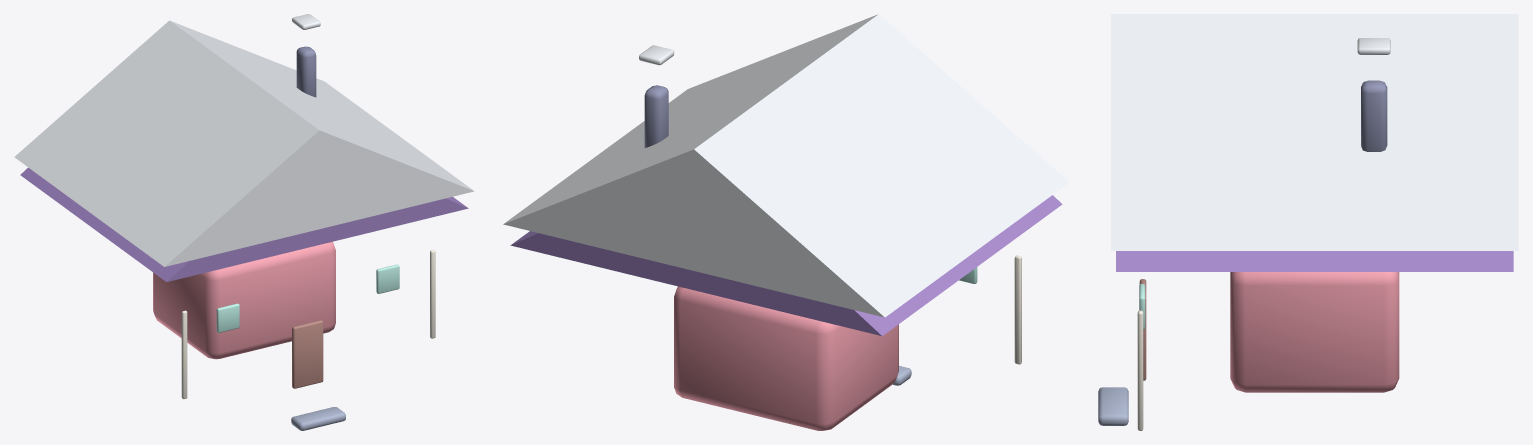
Rendered from northern_house_0.glb.
3 renders of one model, left to right at view 1: azimuth 30°, elevation 25°; view 2: azimuth 150°, elevation 25°; view 3: azimuth 270°, elevation 25°, orthographic. The views are drawn at different scales.
Parts seen in each view (by area): view 1: SnowCap, HouseBody, GableRoof, FrontDoor, Chimney, DoorStep, CornerTrim_-1.0, FrontWindow_-1.0, FrontWindow_1.0, CornerTrim_1.0; view 2: SnowCap, HouseBody, GableRoof, Chimney, CornerTrim_-1.0; view 3: SnowCap, HouseBody, GableRoof, Chimney, DoorStep, CornerTrim_1.0, ChimneySnow.
Part boxes in pixels (x1=…): SnowCap: x1=14, y1=20, x2=474, y2=266; HouseBody: x1=153, y1=242, x2=335, y2=359; GableRoof: x1=20, y1=167, x2=468, y2=282; FrontDoor: x1=292, y1=320, x2=323, y2=388; Chimney: x1=296, y1=46, x2=316, y2=97; DoorStep: x1=291, y1=407, x2=345, y2=430; CornerTrim_-1.0: x1=181, y1=310, x2=187, y2=399; FrontWindow_-1.0: x1=216, y1=303, x2=239, y2=332; FrontWindow_1.0: x1=376, y1=264, x2=399, y2=293; CornerTrim_1.0: x1=430, y1=250, x2=435, y2=338; SnowCap: x1=503, y1=14, x2=1069, y2=317; HouseBody: x1=674, y1=286, x2=898, y2=430; GableRoof: x1=510, y1=195, x2=1062, y2=336; Chimney: x1=644, y1=85, x2=668, y2=147; CornerTrim_-1.0: x1=1014, y1=255, x2=1021, y2=364; SnowCap: x1=1111, y1=14, x2=1518, y2=250; HouseBody: x1=1230, y1=272, x2=1399, y2=392; GableRoof: x1=1116, y1=251, x2=1513, y2=271; Chimney: x1=1361, y1=80, x2=1387, y2=151; DoorStep: x1=1098, y1=387, x2=1128, y2=425; CornerTrim_1.0: x1=1137, y1=310, x2=1143, y2=430; ChimneySnow: x1=1357, y1=38, x2=1390, y2=54.
Size of the model in its own units: 5.75 by 5.54 by 4.97.
